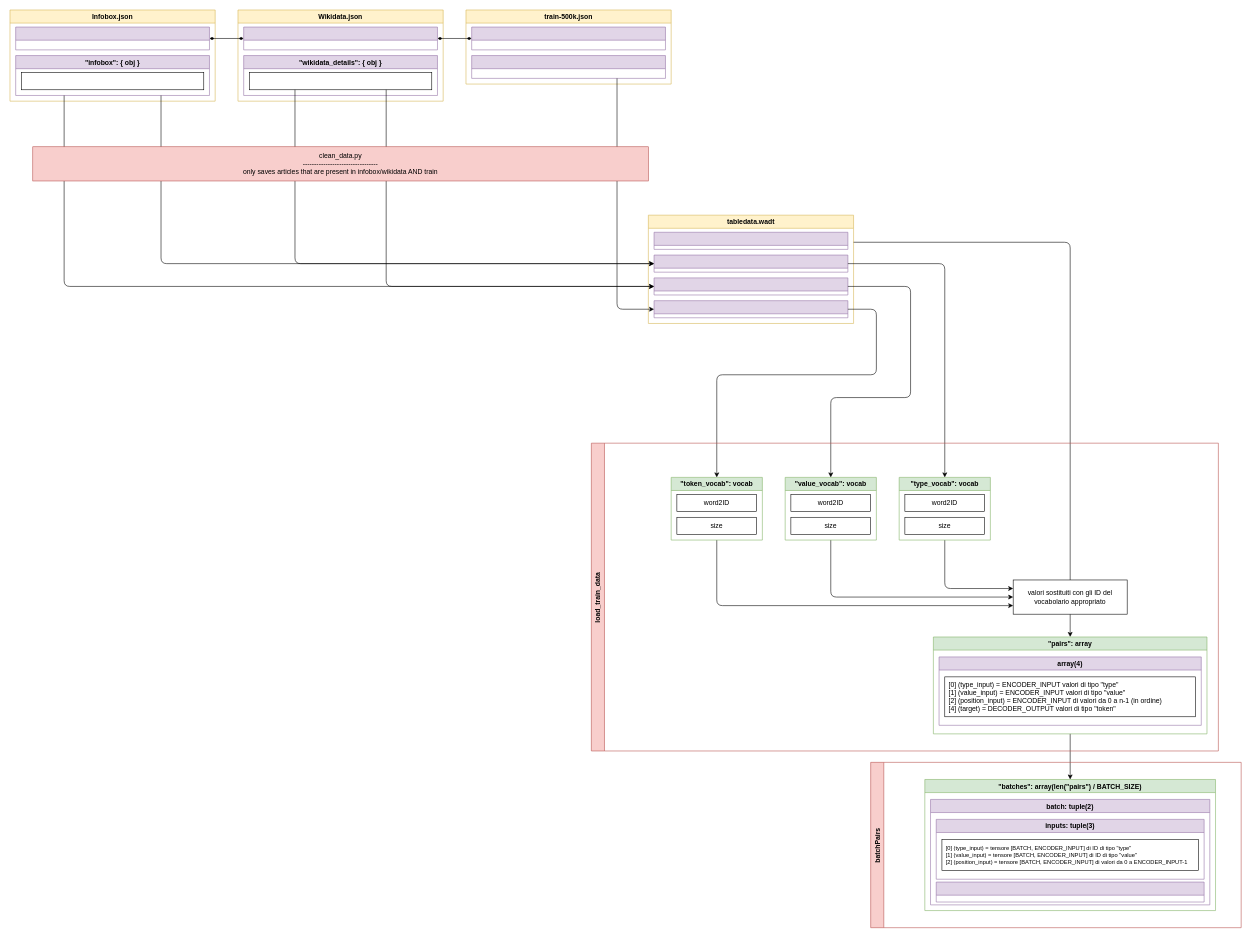
The diagram is 1251 pixels wide and 938 high, and some of its shapes have lost their labels. The shapes that lost their labels are listed below. From the top down, each one's centre as x and y in pixels, then its label:
(x=112, y=38): "title": string
(x=340, y=38): "wikidata_name": string
(x=568, y=38): "doc_title": string
(x=112, y=81): 'key': 'value'
(x=340, y=81): 'key': [ { "data": 'value' } ]
(x=568, y=66): "text": string
(x=751, y=240): "article": string
(x=751, y=263): "types": array[string], len = X
(x=751, y=286): "values": array[string], len = X
(x=751, y=309): "tokens": array[string], len = ?
(x=1070, y=892): target: tensor [BATCH, DECODER_OUTPUT]
